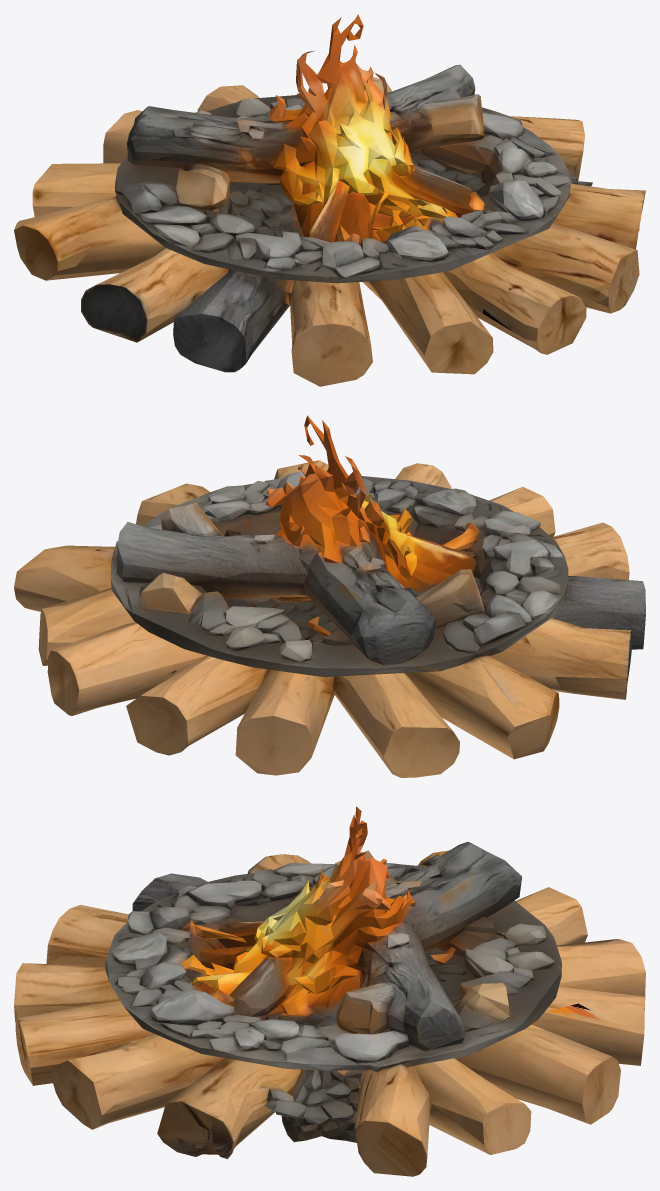
Rendered from campfire.glb.
The picture shows the model from 3 angles, top to bottom: view 1: azimuth 30°, elevation 25°; view 2: azimuth 150°, elevation 25°; view 3: azimuth 270°, elevation 25°; orthographic projection. The views are drawn at different scales.
Parts seen in each view (by area): view 1: model; view 2: model; view 3: model.
Boxes of the visible parts, x1=… form: model: x1=14, y1=14, x2=645, y2=386; model: x1=14, y1=415, x2=645, y2=777; model: x1=14, y1=806, x2=645, y2=1176.
Size of the model in its own units: 1.91 by 0.802 by 1.83.
1 material, 1 textured.
